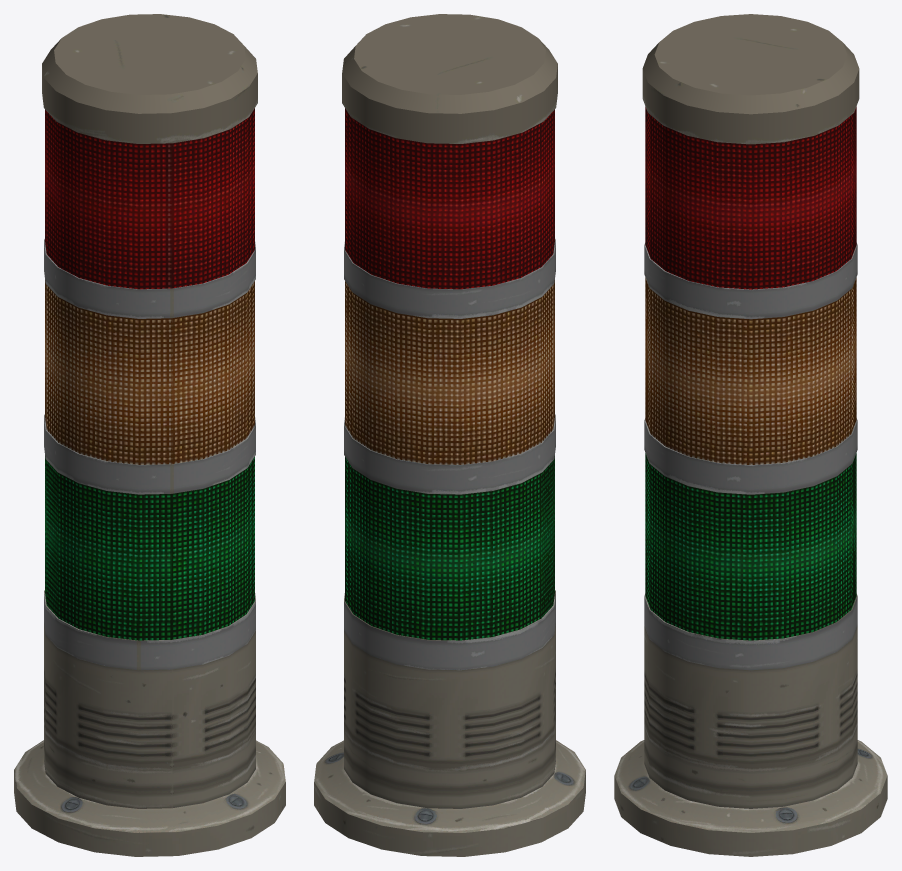
File: Alarm lamp.FBX
3 renders of one model, left to right at view 1: azimuth 30°, elevation 25°; view 2: azimuth 150°, elevation 25°; view 3: azimuth 270°, elevation 25°, orthographic.
Visible parts, largest first — view 1: Alarm lamp; view 2: Alarm lamp; view 3: Alarm lamp.
Part boxes in pixels (box(x1,y1,x2,y2)): Alarm lamp: box(14, 14, 285, 856); Alarm lamp: box(314, 14, 585, 856); Alarm lamp: box(614, 14, 887, 856).
Bounding box in the file's own units: 0.0828 × 0.2492 × 0.0828.
1 material, 1 textured.
